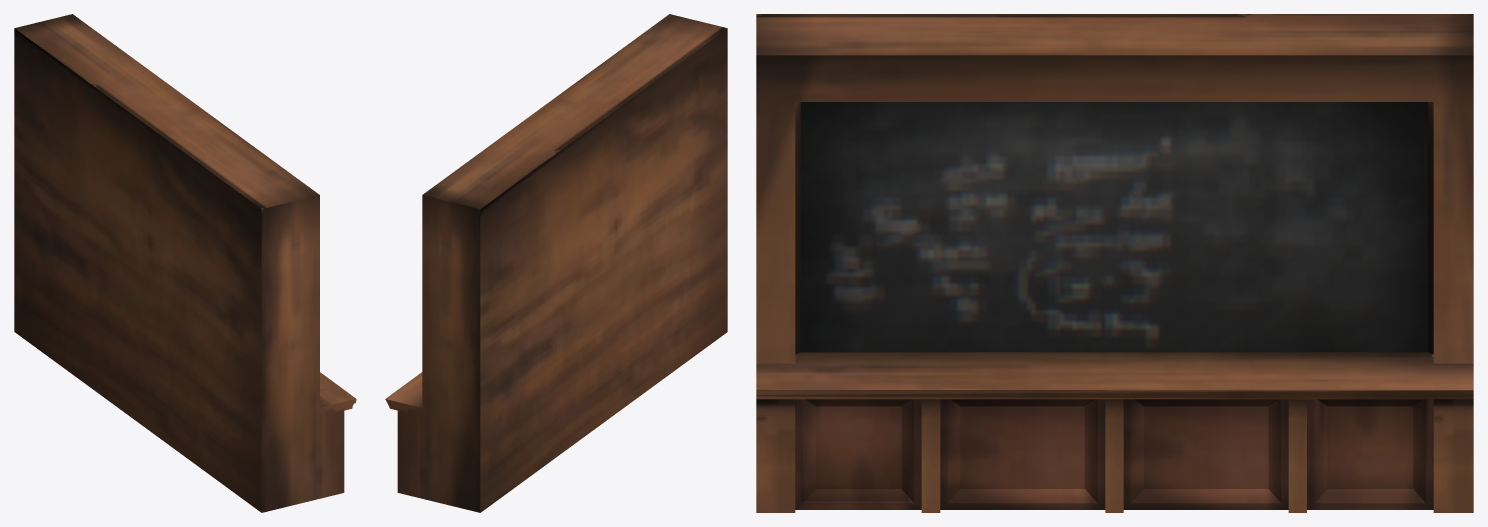
Rendered from Blackboard.glb.
3 renders of one model, left to right at view 1: azimuth 30°, elevation 25°; view 2: azimuth 150°, elevation 25°; view 3: azimuth 270°, elevation 25°, orthographic. The views are drawn at different scales.
Parts seen in each view (by area): view 1: Shelf 1; view 2: Shelf 1; view 3: Shelf 1.
Part boxes in pixels (x1,y1,x2,y2): Shelf 1: (14, 14, 356, 512); Shelf 1: (385, 14, 727, 512); Shelf 1: (756, 14, 1473, 512).
Bounding box in the file's own units: 36.91 × 113 × 166.
Materials: 1 (1 with a texture image).
